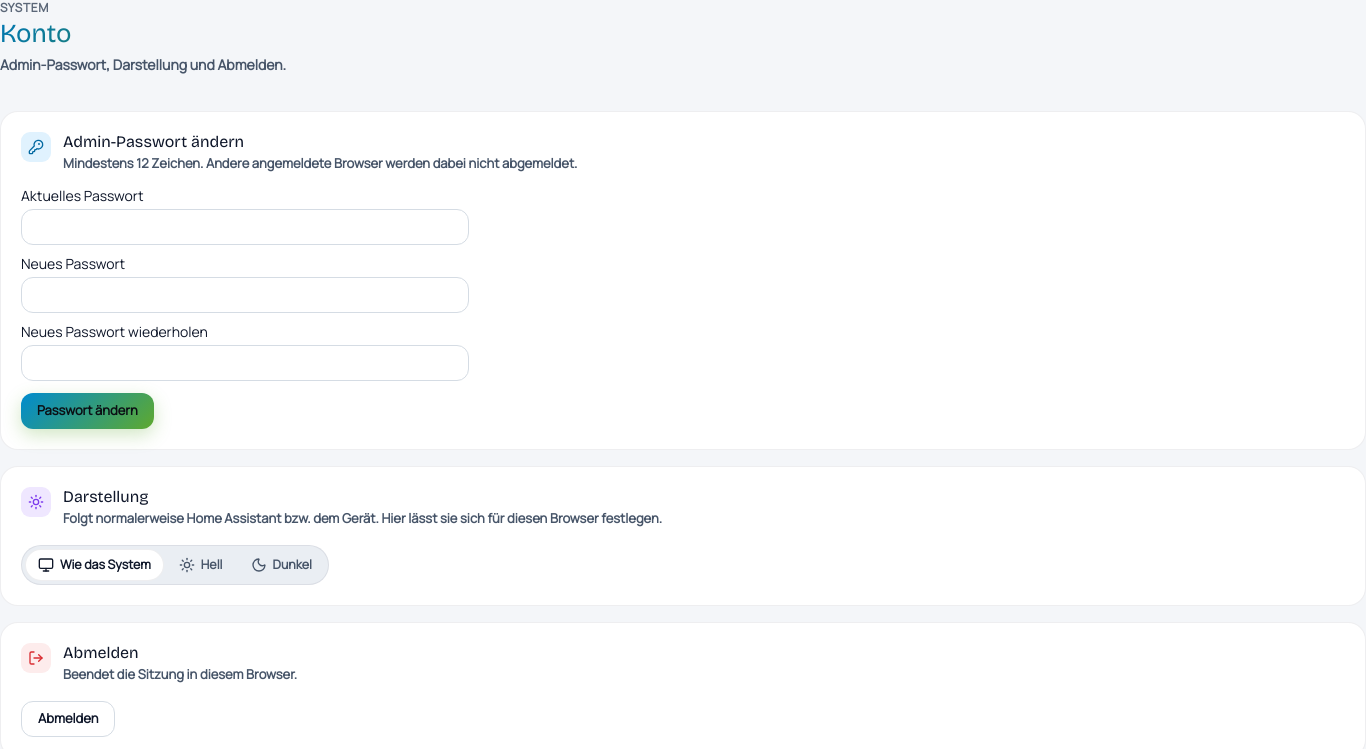
Test: Konto › zeigt die Meldung der Anlage bei Ablehnung
Type "aktuelles-passwort" into the password field labelled "Aktuelles Passwort" at (245, 227), box [21,209,469,245]
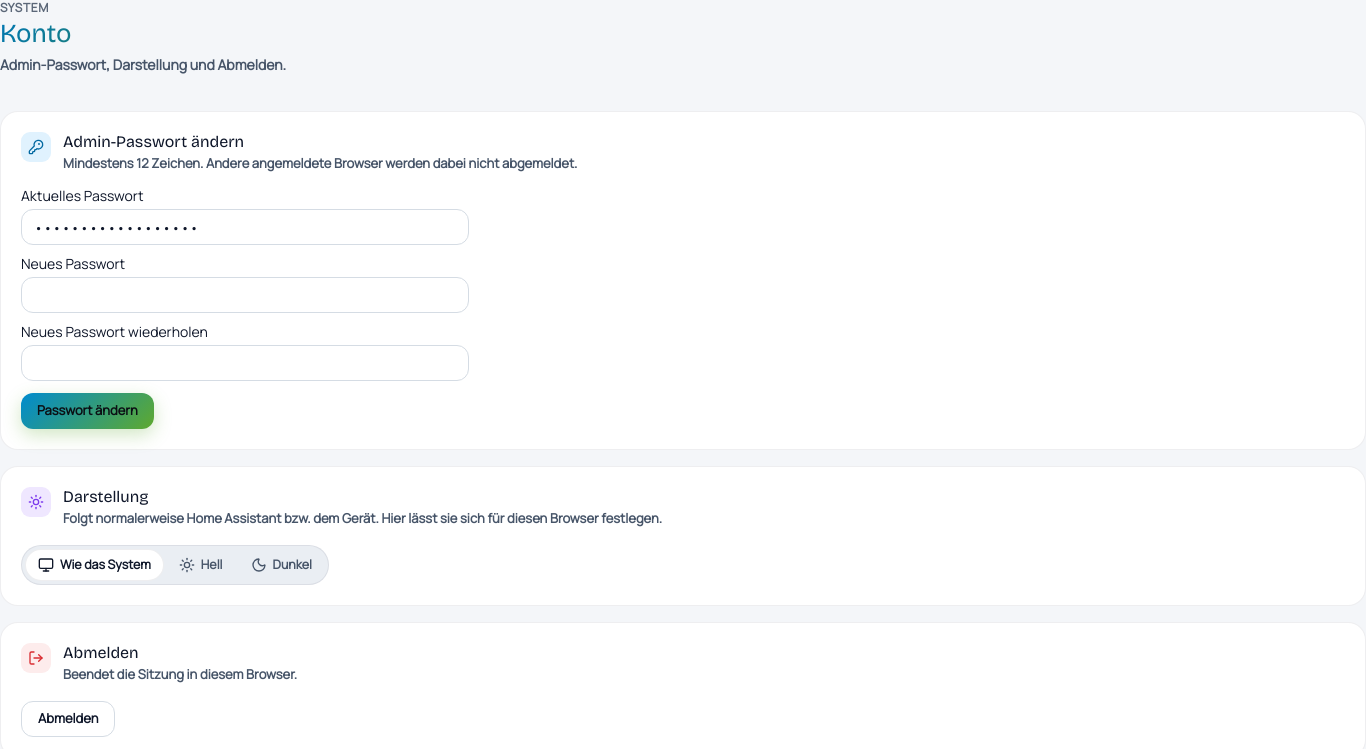
Type "changeme-changeme" into the password field labelled "Neues Passwort" at (245, 295), box [21,277,469,313]
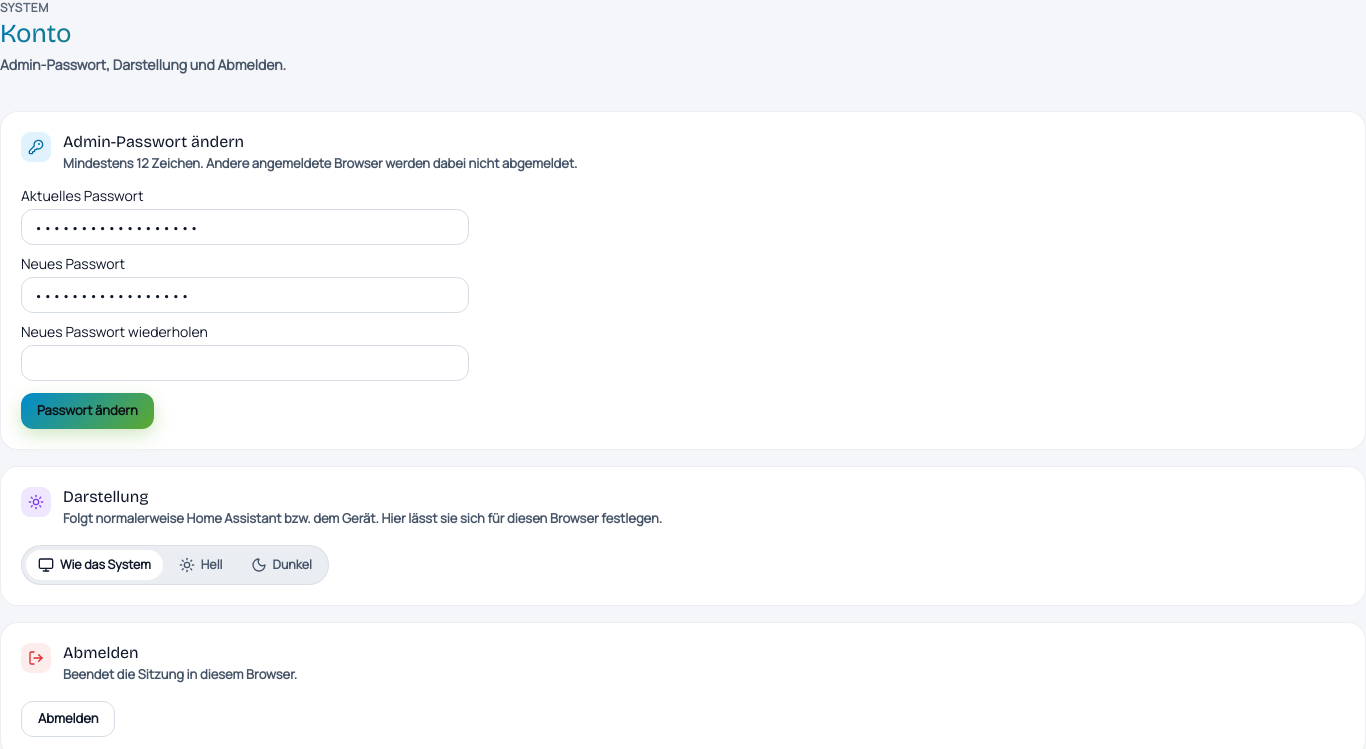
Type "changeme-changeme" into the password field labelled "Neues Passwort wiederholen" at (245, 363), box [21,345,469,381]
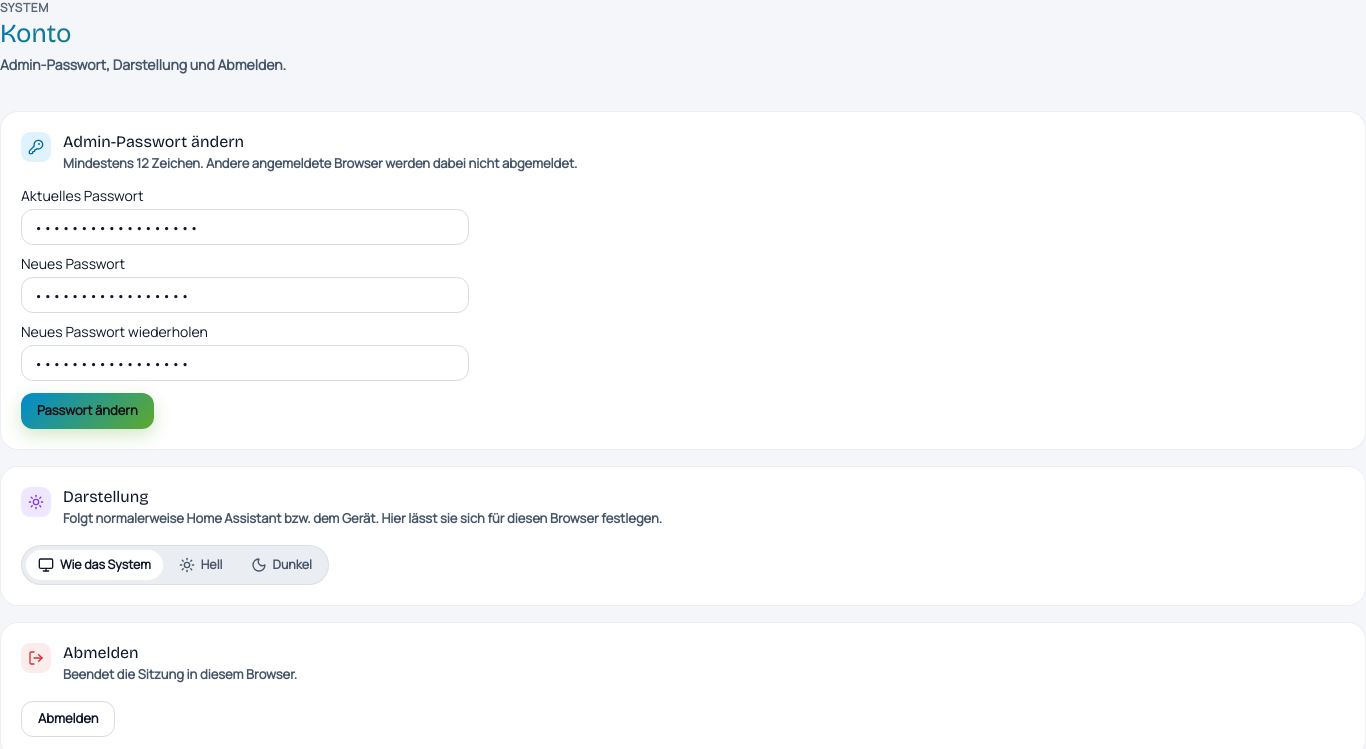
Click the button "Passwort ändern" at (87, 411), box [21,393,154,429]
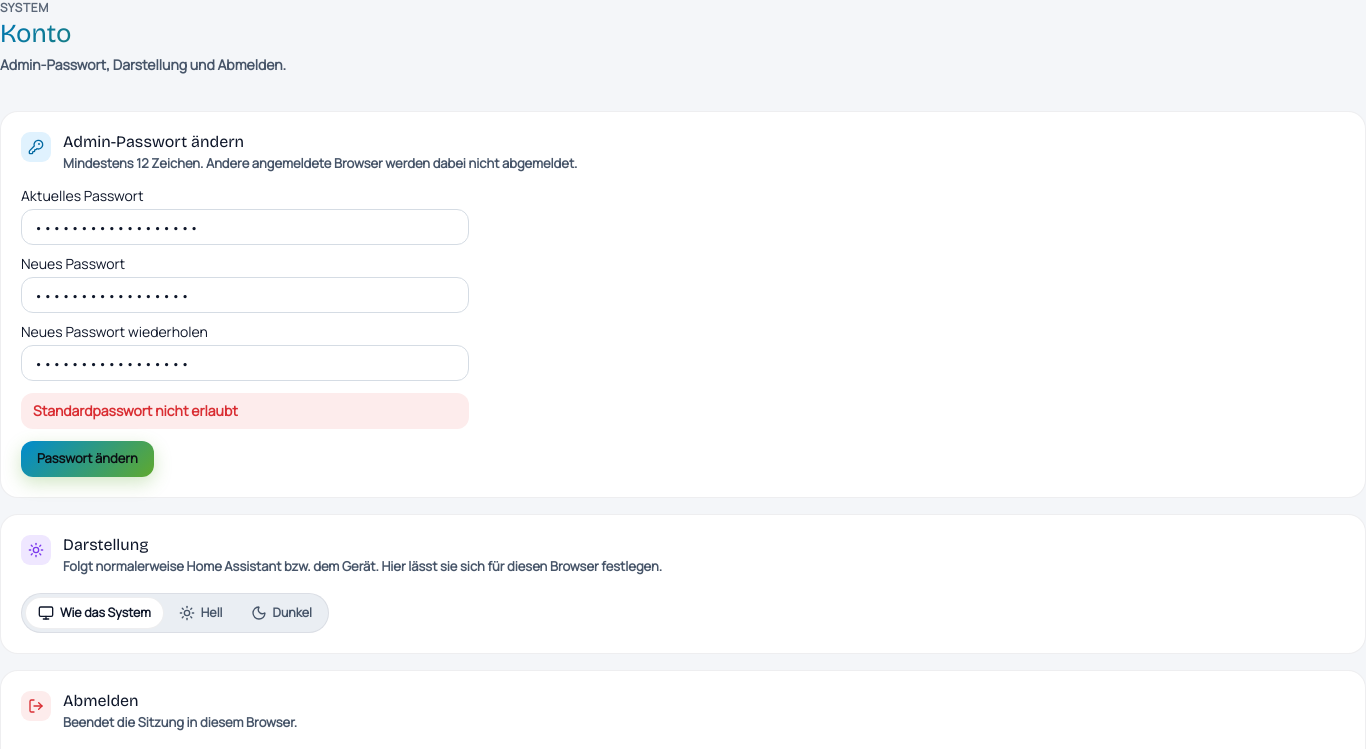
Result: the message reads "Standardpasswort nicht erlaubt" at [33,401,238,420]
